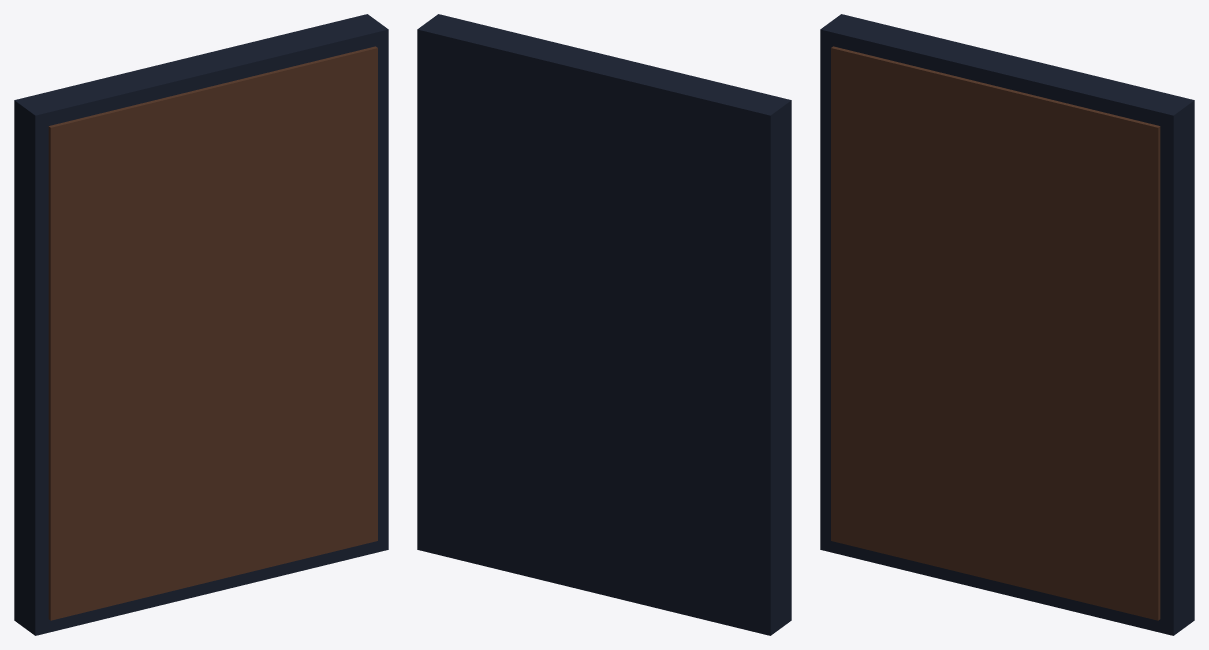
The model's file is dvd-7.glb.
3 renders of one model, left to right at view 1: azimuth 30°, elevation 25°; view 2: azimuth 150°, elevation 25°; view 3: azimuth 330°, elevation 25°, orthographic.
Size of the model in its own units: 0.135 by 0.19 by 0.0155.
